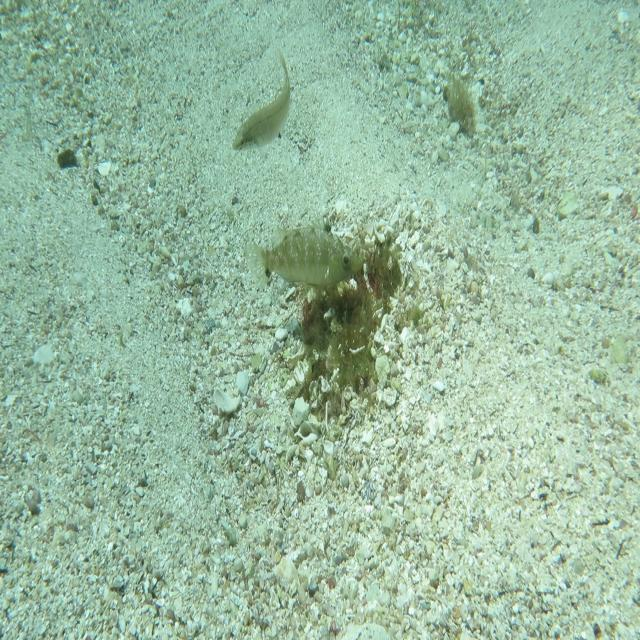FAN: (243, 212, 365, 293)
core_nest: (350, 252, 390, 291)
female: (231, 49, 291, 153)
nest: (287, 214, 416, 427)
vegetation: (443, 69, 477, 140), (56, 144, 78, 169)
